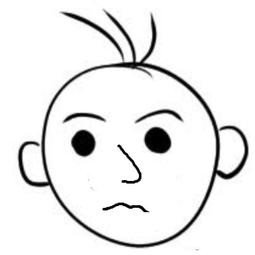ear: (211, 122, 252, 184), (18, 138, 53, 192)
eye: (141, 124, 175, 156), (67, 129, 99, 162)
eyebrow: (128, 102, 186, 128), (58, 109, 112, 127)
line_unsmiling_mouth: (99, 198, 161, 218)
nose: (115, 139, 144, 189)
